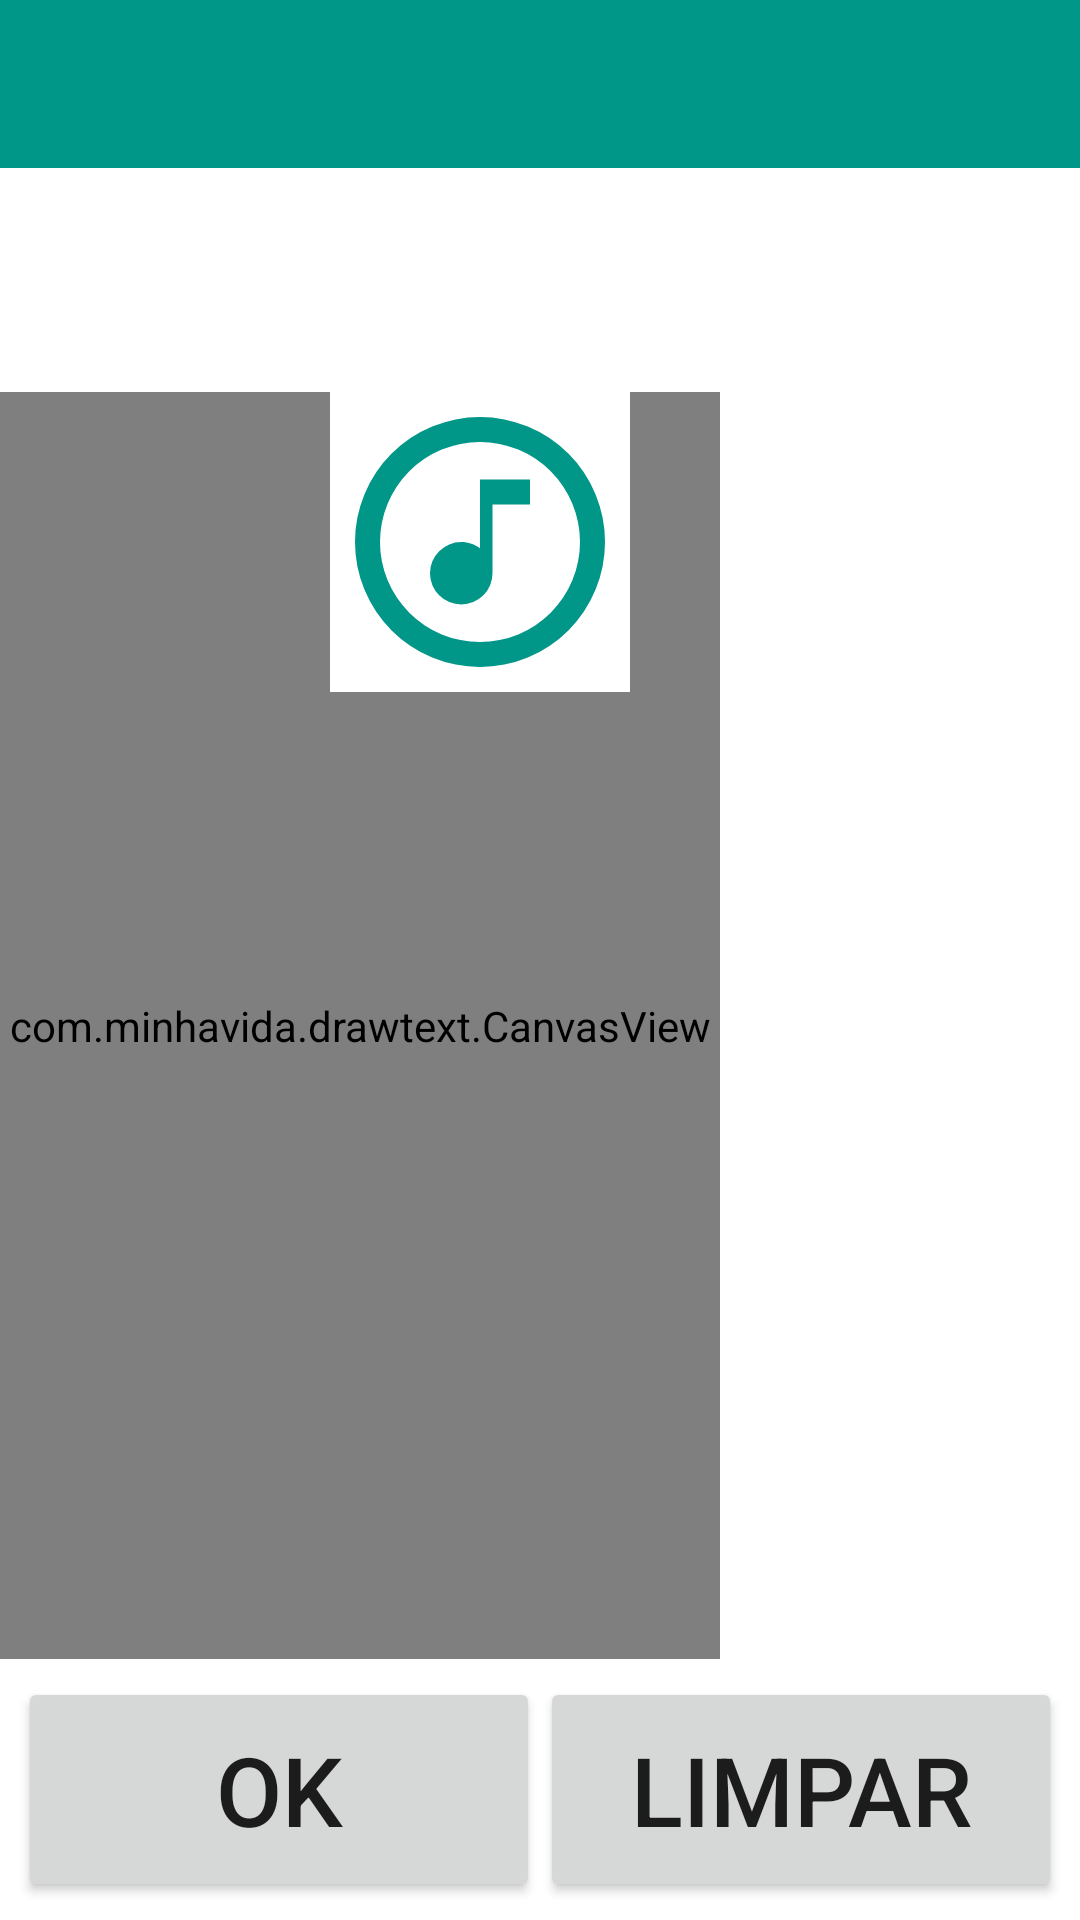

Icons on this 1080px x 1920px Android screen, each with the point to tap as point (x, y):
sound: point (480, 542)
